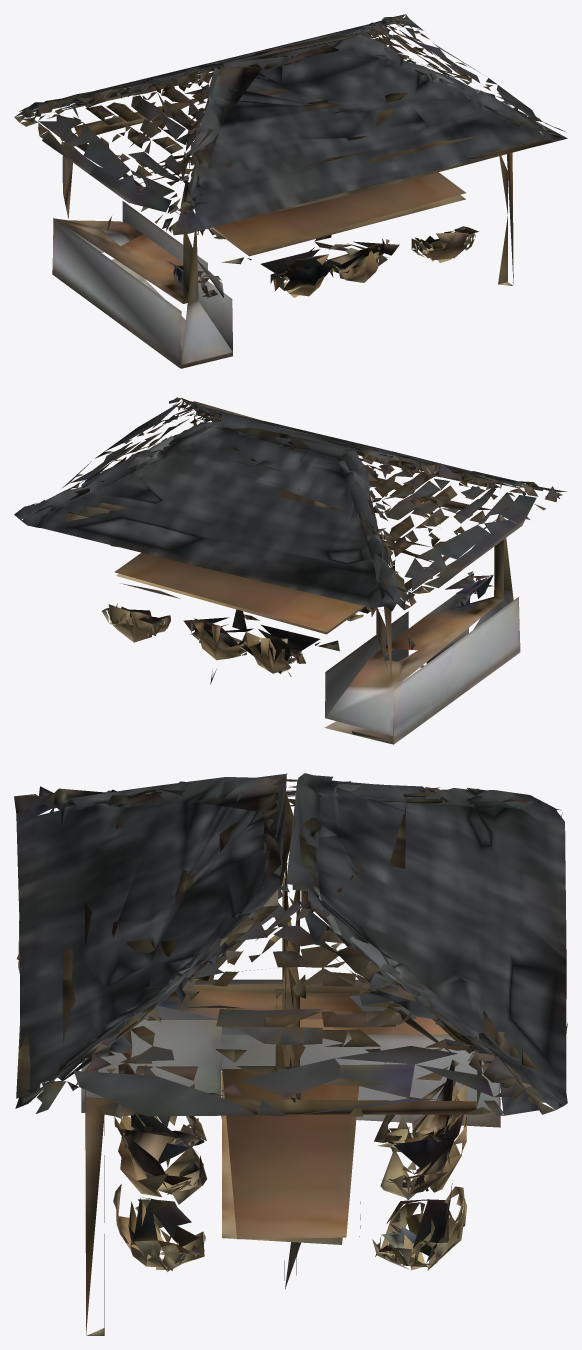
The model's file is Tiki_Pavilion_town.glb.
3 renders of one model, top to bottom at view 1: azimuth 30°, elevation 25°; view 2: azimuth 150°, elevation 25°; view 3: azimuth 270°, elevation 25°, orthographic. The views are drawn at different scales.
Parts seen in each view (by area): view 1: Tiki_Pavilion; view 2: Tiki_Pavilion; view 3: Tiki_Pavilion.
Part boxes in pixels (left/top/right/bottom): Tiki_Pavilion: left=14, top=14, right=567, bottom=368; Tiki_Pavilion: left=14, top=397, right=566, bottom=744; Tiki_Pavilion: left=14, top=773, right=567, bottom=1335.
Size of the model in its own units: 1.9 by 1.07 by 1.4.
1 material, 1 textured.
